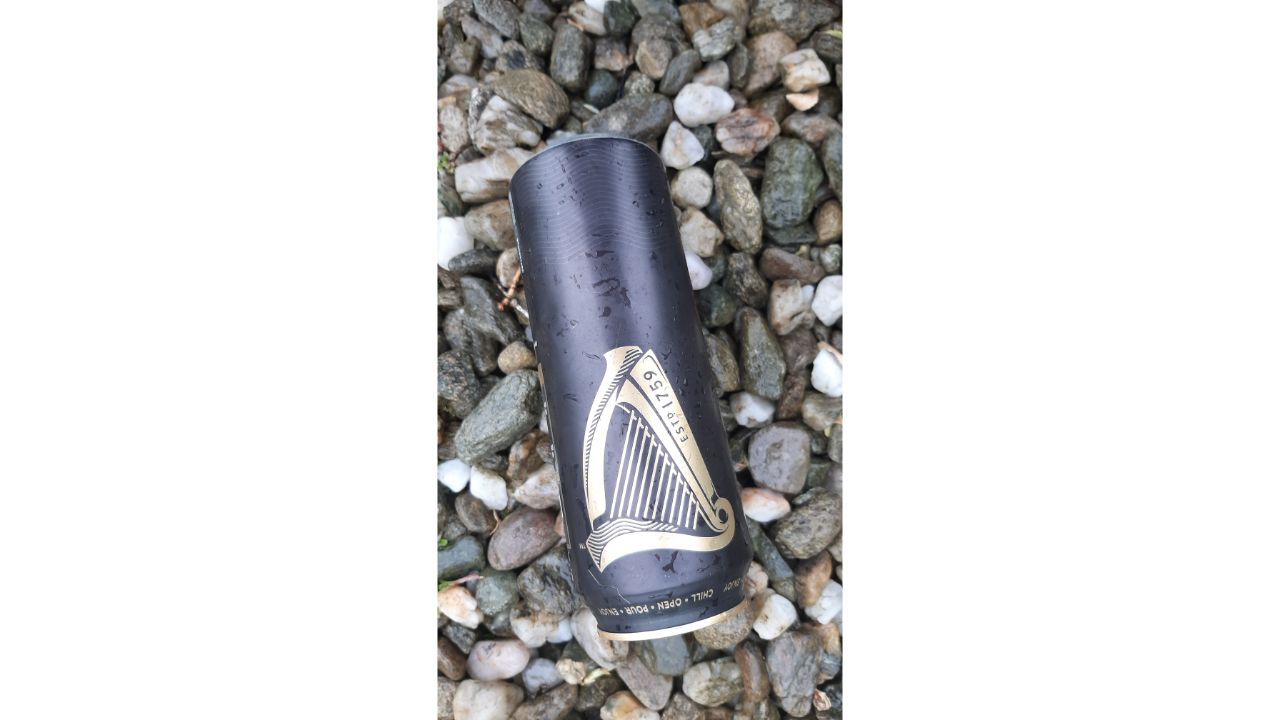Can: (495, 121, 765, 654)
